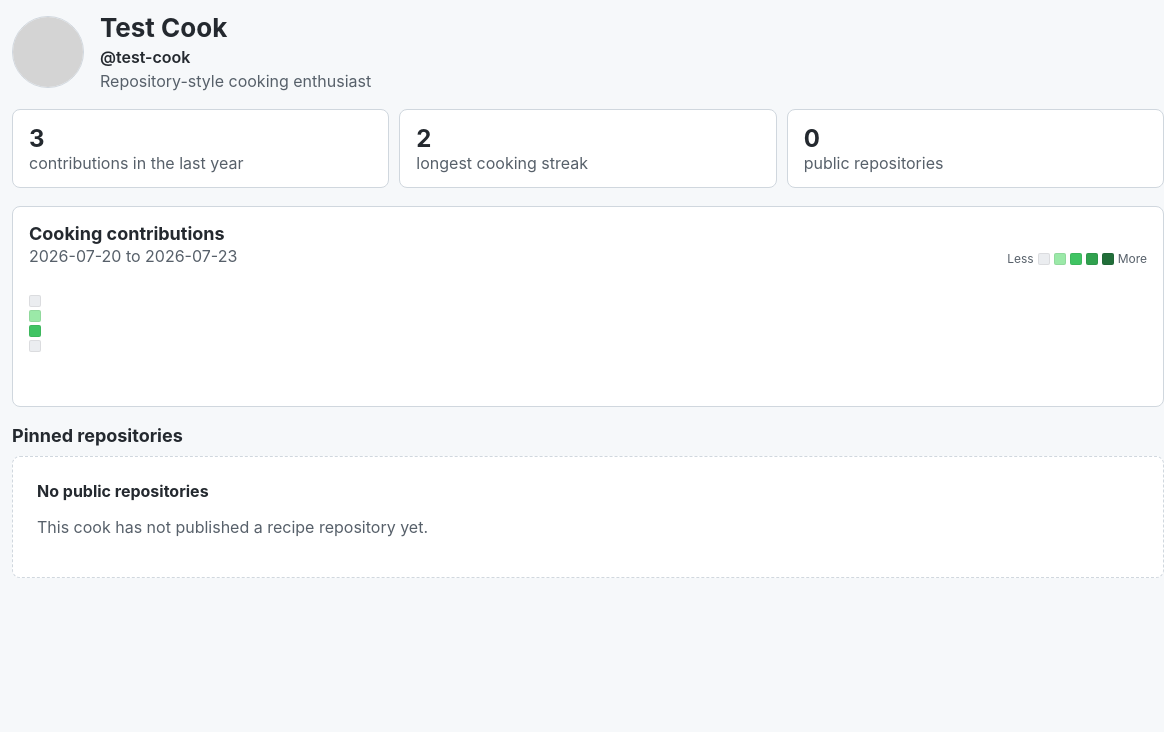
ProfilePage › shows summary-only counts without requesting private day details
This screenshot has width=1164, height=732.
Click the button named "2 contributions on 2026-07-22, Medium heat" at (35, 331), box [29,325,41,337]
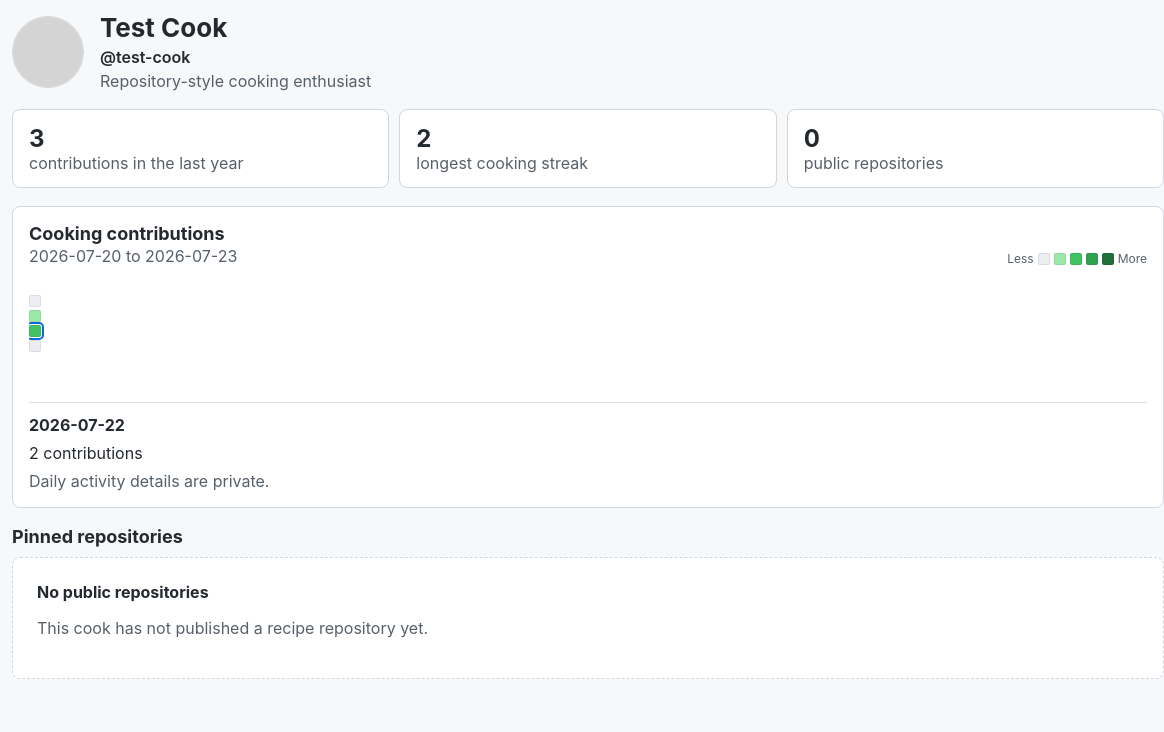
Expected: the text "Daily activity details are private." is shown, [29,471,270,491]
